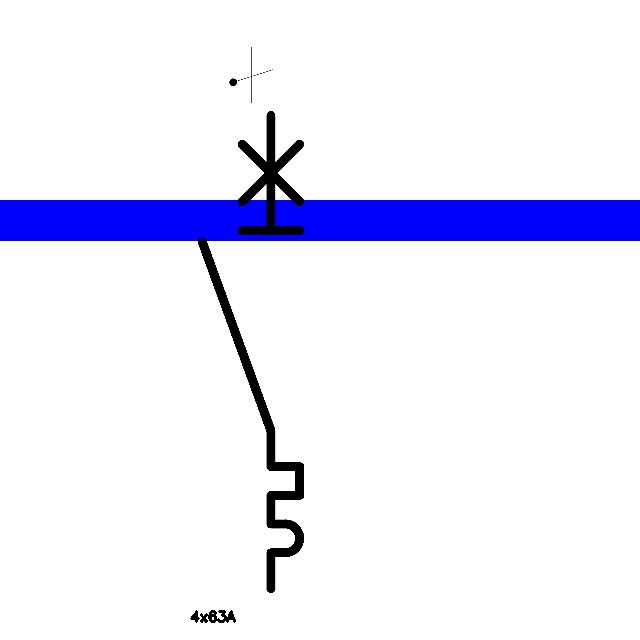interruptor_termomagnetico: (190, 103, 312, 601)
